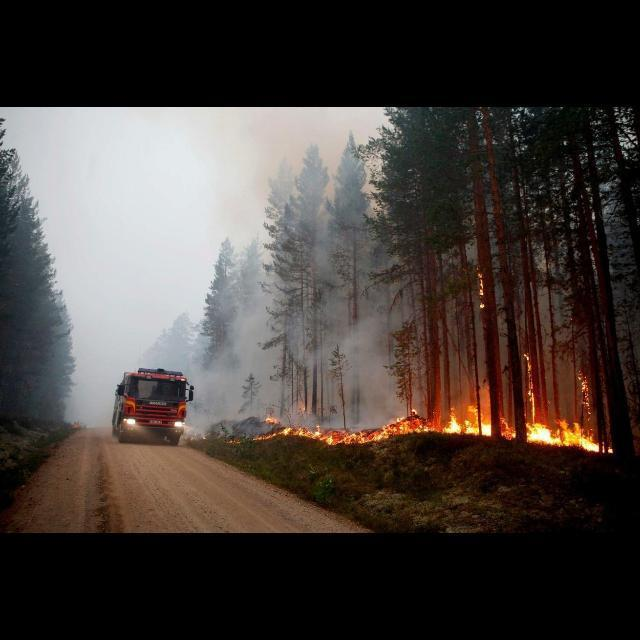Fire: (224, 351, 614, 457), (476, 272, 486, 308)
Smoke: (183, 108, 423, 440)
